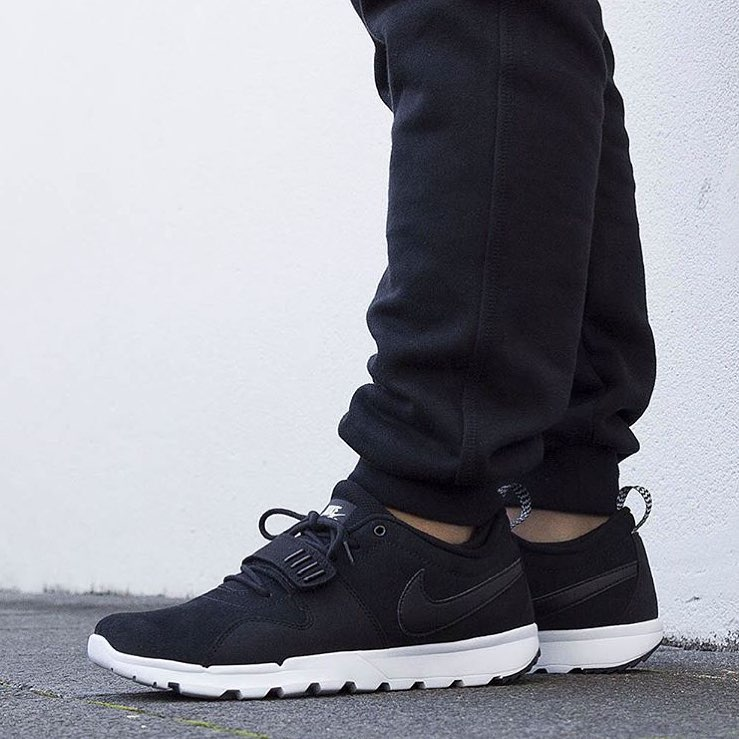sneaker: (71, 439, 552, 718), (483, 464, 673, 701)
